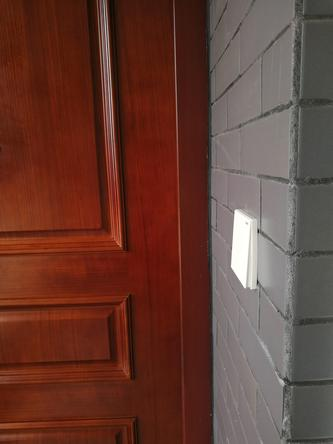switch: (228, 211, 253, 284)
